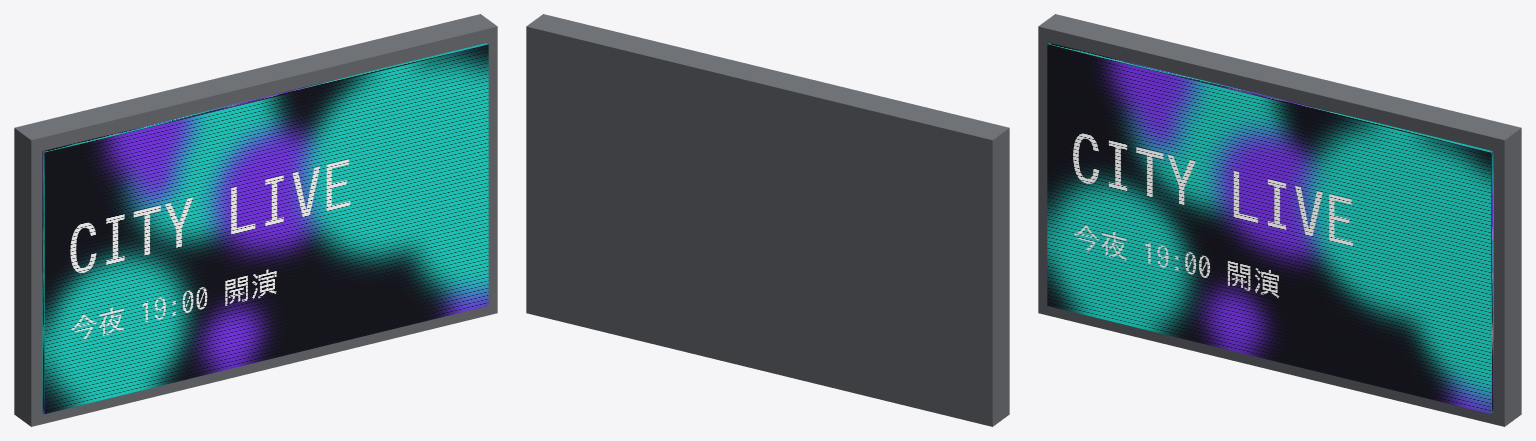
File: big_screen.glb
3 renders of one model, left to right at view 1: azimuth 30°, elevation 25°; view 2: azimuth 150°, elevation 25°; view 3: azimuth 330°, elevation 25°, orthographic.
Visible parts, largest first — view 1: big_screen; view 2: big_screen; view 3: big_screen.
Boxes of the visible parts, x1,y1,x2,y2 form: big_screen: [14, 14, 497, 426]; big_screen: [526, 14, 1009, 426]; big_screen: [1038, 14, 1521, 426].
Size of the model in its own units: 12.6 by 7.4 by 0.9.
2 materials, 1 textured.
